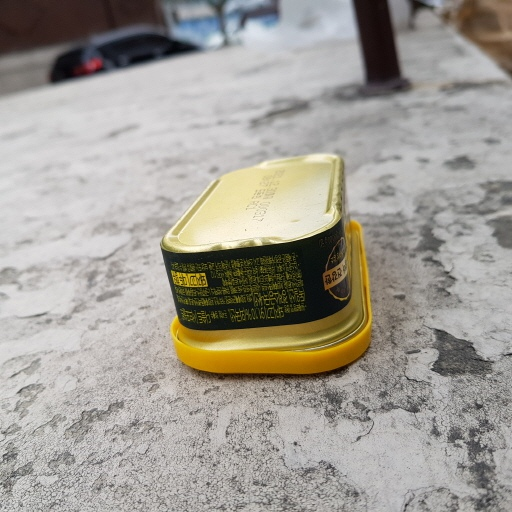Metal_2: (163, 152, 380, 383)
